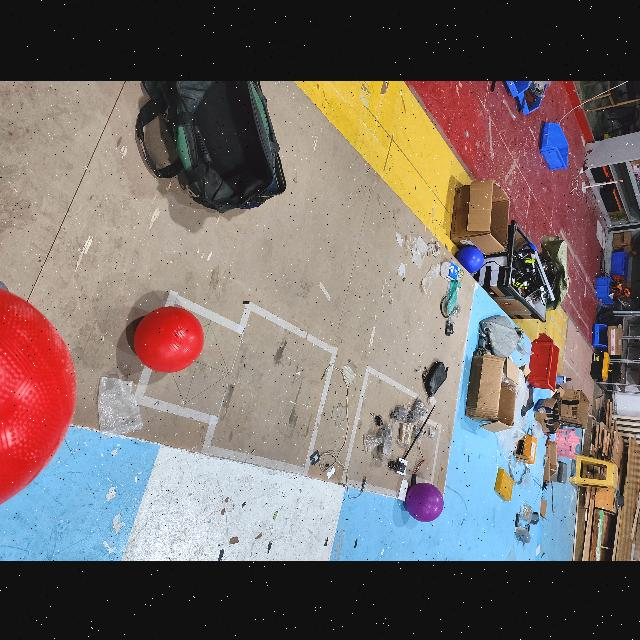B: (456, 242, 486, 272)
P: (404, 481, 446, 521)
R: (0, 286, 80, 510), (130, 304, 203, 374)
